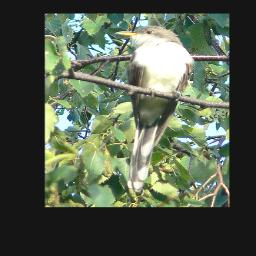Cuckoo: (114, 24, 193, 194)
